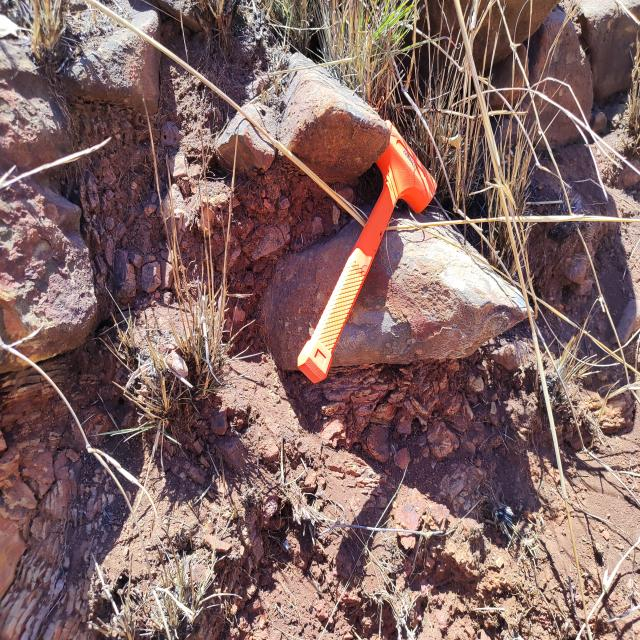Orange_hammer: (296, 118, 438, 384)
